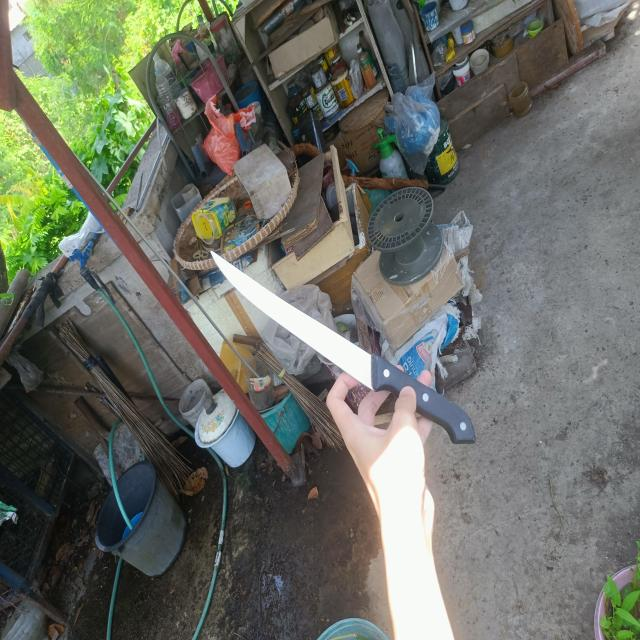knife: (210, 250, 476, 445)
